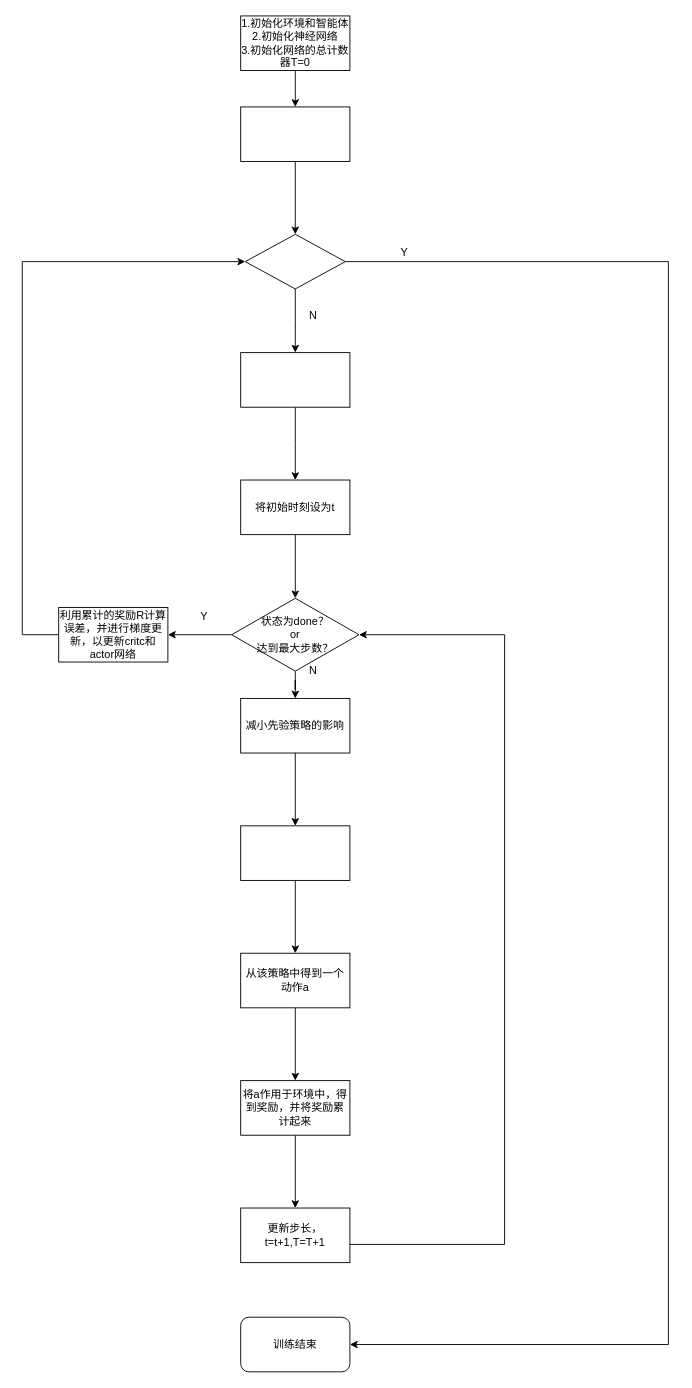
Image size: 692x1388. Some labels were removed from this diagram. Each missing label, with the centre of its shape:
"T>=Tmax?" belongs at (x=294, y=261).
"将A3C中的每个worker的计数器置为1" belongs at (x=295, y=134).
"异步更新worker的critc和actor参数w和θ" belongs at (x=295, y=379).
"通过先验策略和神经网络得到智能体真正的策略" belongs at (x=295, y=852).
